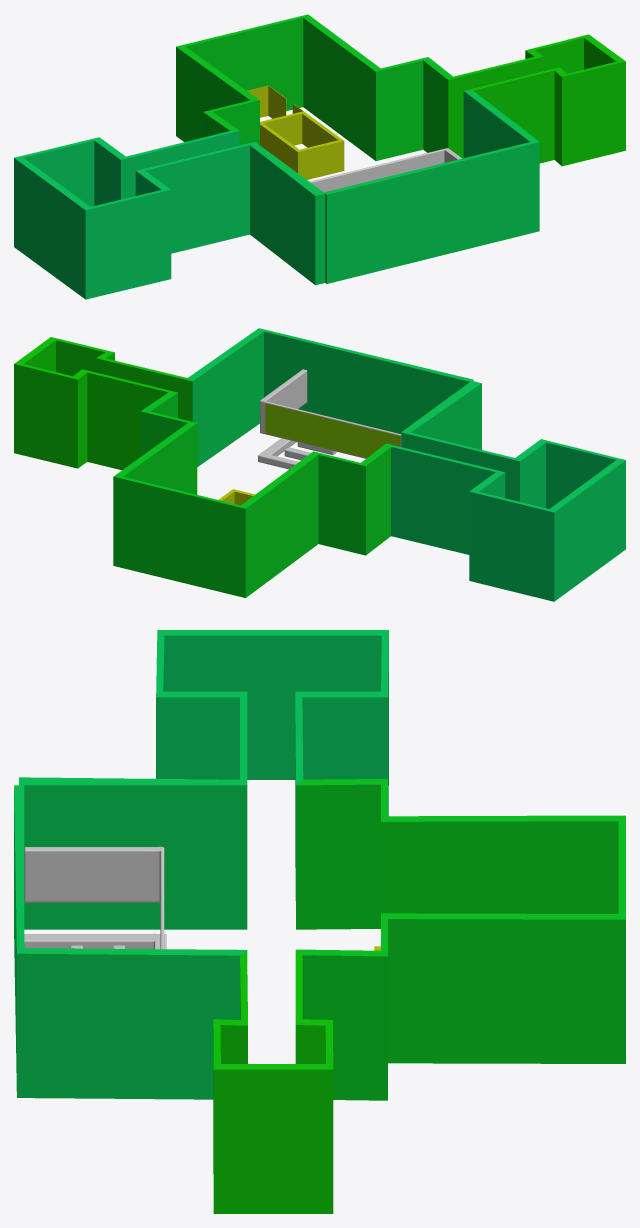
File: Ikea layout2.fbx
The picture shows the model from 3 angles, top to bottom: view 1: azimuth 30°, elevation 25°; view 2: azimuth 150°, elevation 25°; view 3: azimuth 270°, elevation 25°; orthographic projection. The views are drawn at different scales.
Visible parts, largest first — view 1: ulkoseinät, Hallway empty room, Cafeteria desk, valvomo; view 2: ulkoseinät, Cafeteria desk; view 3: ulkoseinät, Cafeteria desk.
Part boxes in pixels (x1,y1,x2,y2): ulkoseinät: (14, 14, 625, 299); Hallway empty room: (260, 111, 344, 179); Cafeteria desk: (310, 148, 461, 192); valvomo: (247, 85, 303, 118); ulkoseinät: (14, 328, 625, 601); Cafeteria desk: (258, 369, 401, 469); ulkoseinät: (14, 630, 625, 1213); Cafeteria desk: (24, 846, 166, 949).
Bounding box in the file's own units: 17095 × 2620 × 10057.
